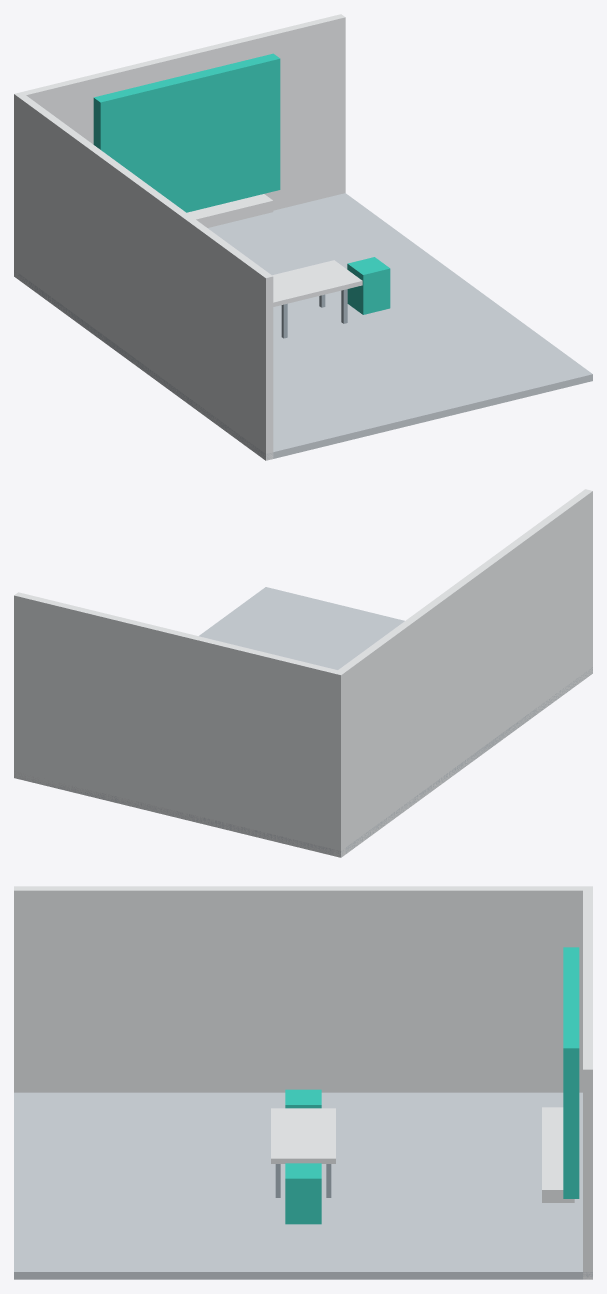
The picture shows the model from 3 angles, top to bottom: view 1: azimuth 30°, elevation 25°; view 2: azimuth 150°, elevation 25°; view 3: azimuth 270°, elevation 25°; orthographic projection. The views are drawn at different scales.
Parts seen in each view (by area): view 1: Exhibition Booth Concept; view 2: Exhibition Booth Concept; view 3: Exhibition Booth Concept.
Part boxes in pixels (x1,y1,x2,y2): Exhibition Booth Concept: (14,14,592,460); Exhibition Booth Concept: (14,489,592,857); Exhibition Booth Concept: (14,886,592,1279).
Bounding box in the file's own units: 6 × 3.2 × 8.
